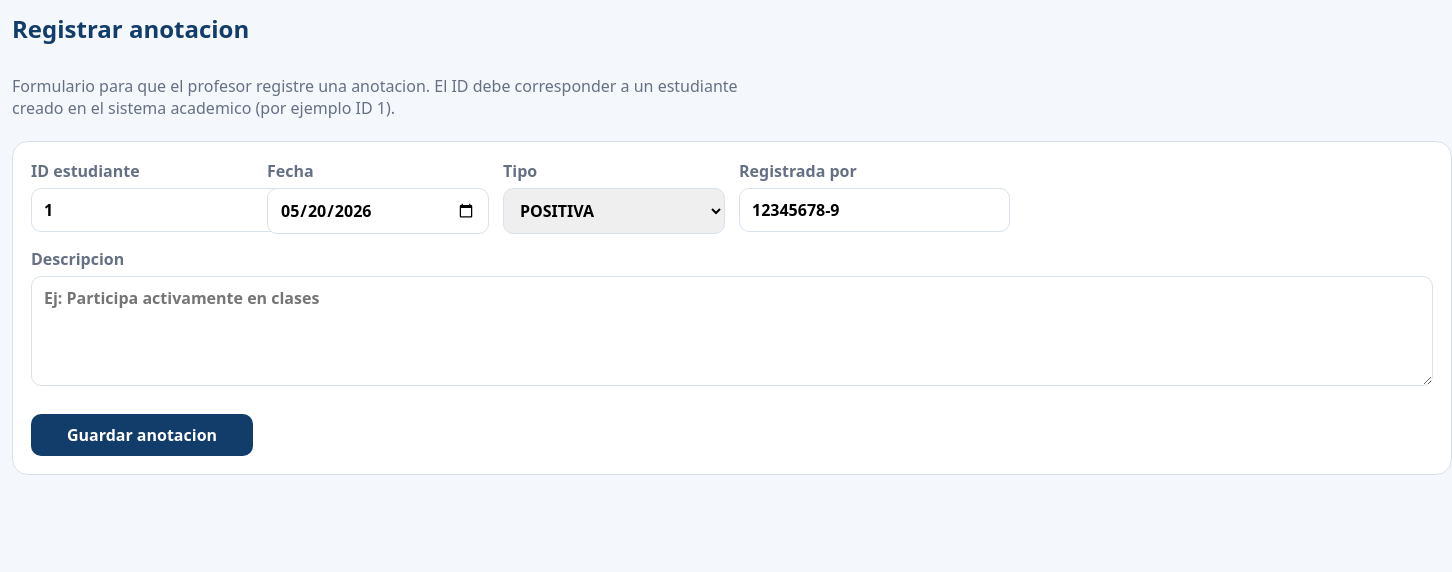
Test: paginas frontend › RegistrarAnotacion muestra error si falla el BFF
Type "Participa activamente" into the text box with placeholder "Ej: Participa activamente en clases".
click(732, 331); type("Participa activamente")  # box [31, 276, 1433, 386]
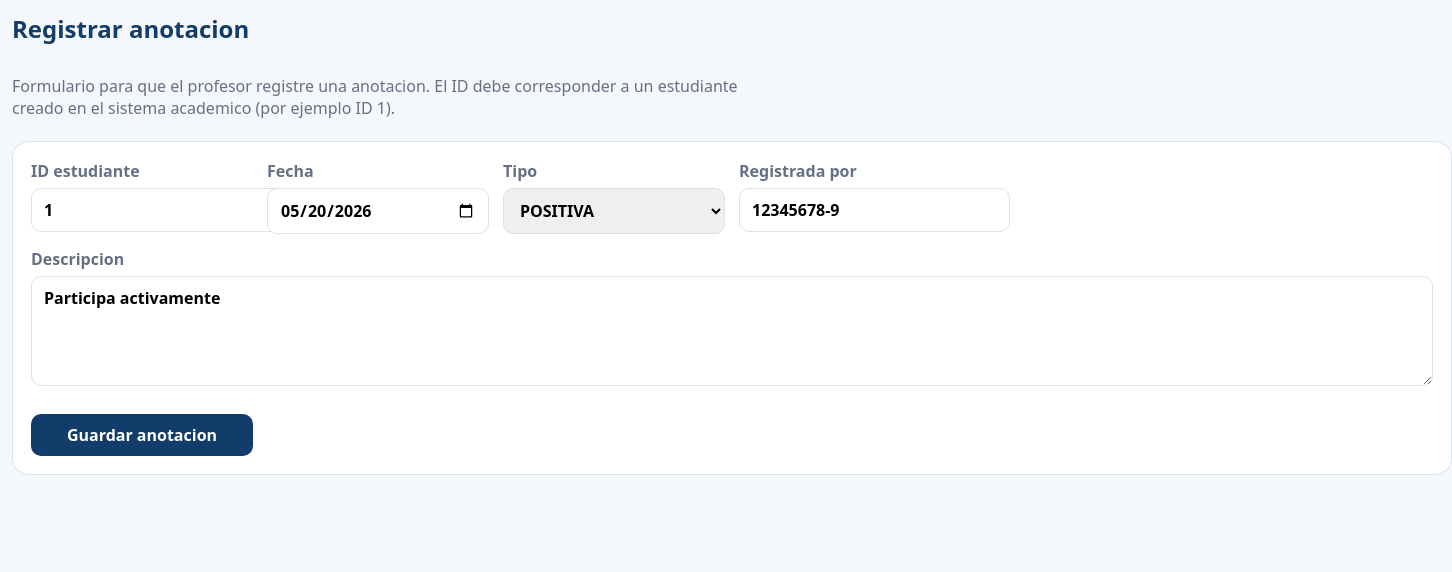
Click the button "Guardar anotacion".
click(142, 435)  # box [31, 414, 253, 456]
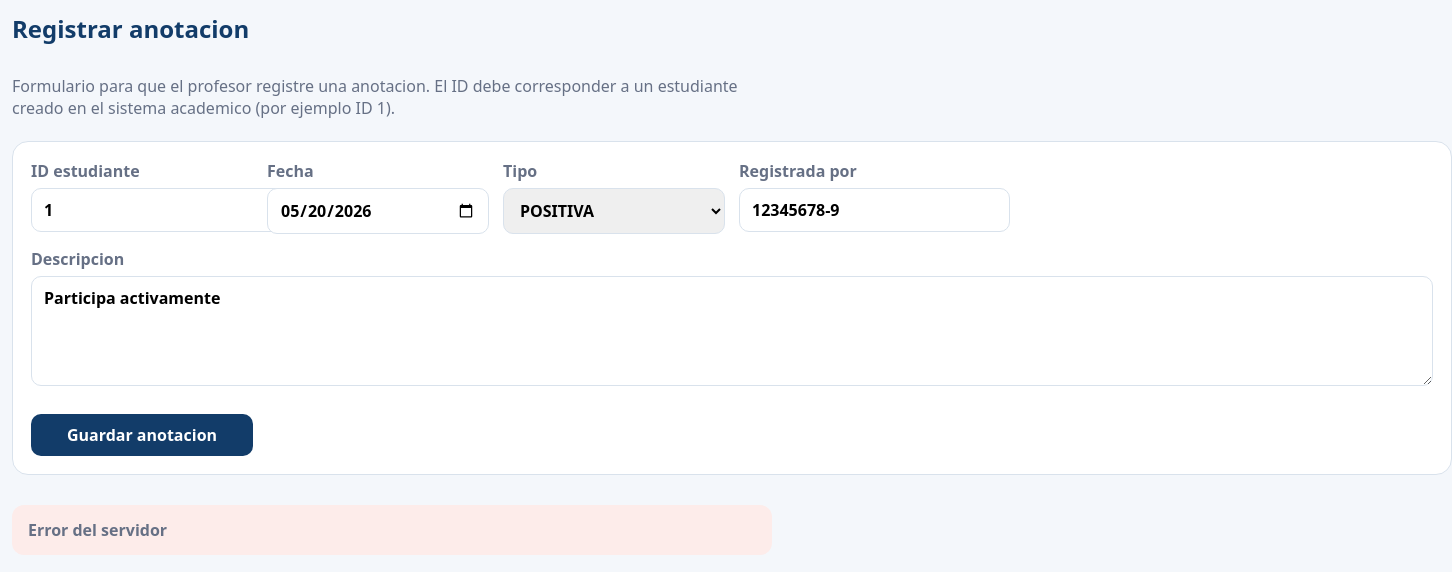
Expected: the text "Error del servidor" is shown, [12, 505, 772, 555]
